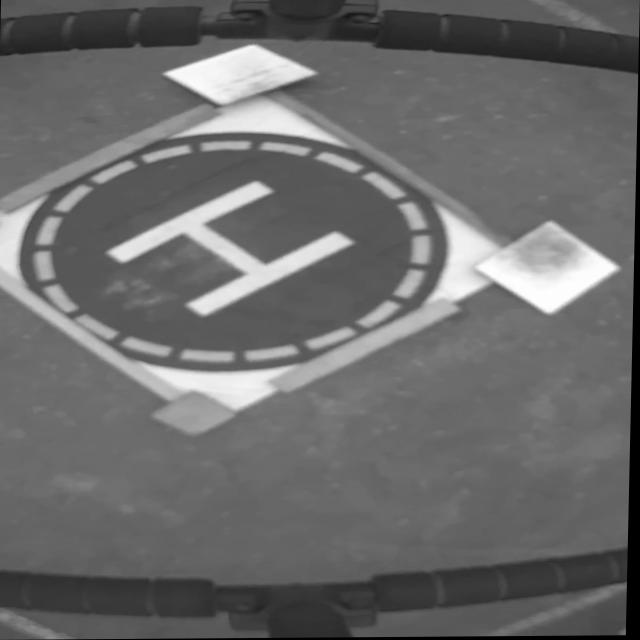Helipad: (106, 181, 354, 317)
